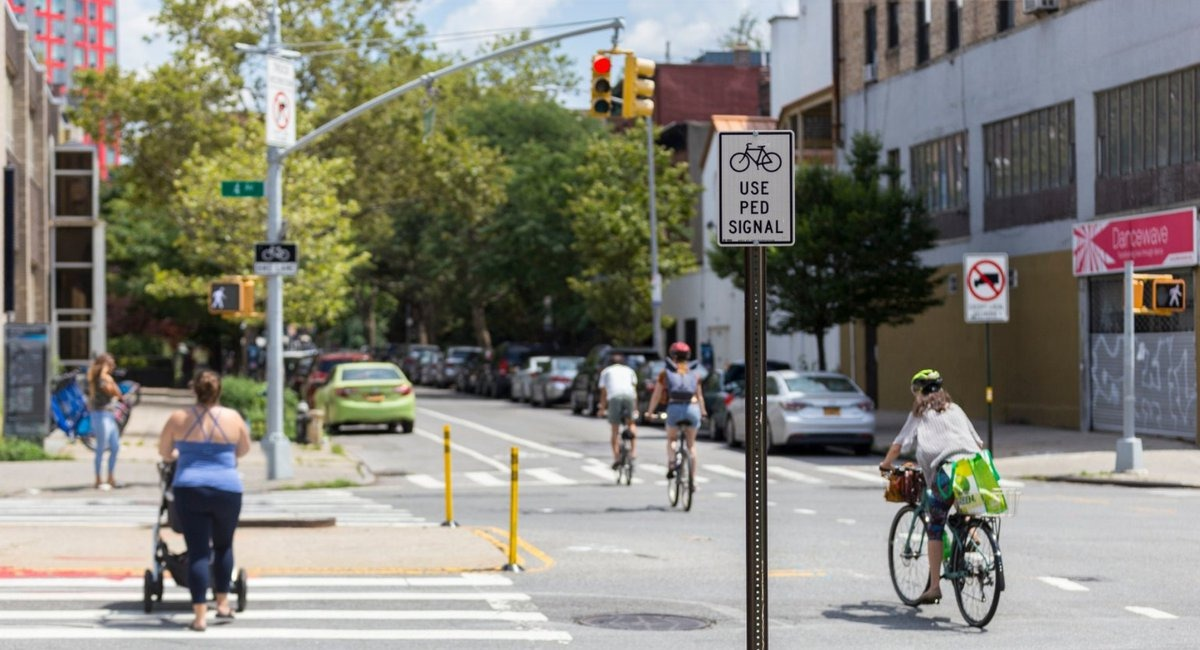crosswalk: (0, 557, 565, 637)
pedestrian_walk: (205, 282, 245, 320)
